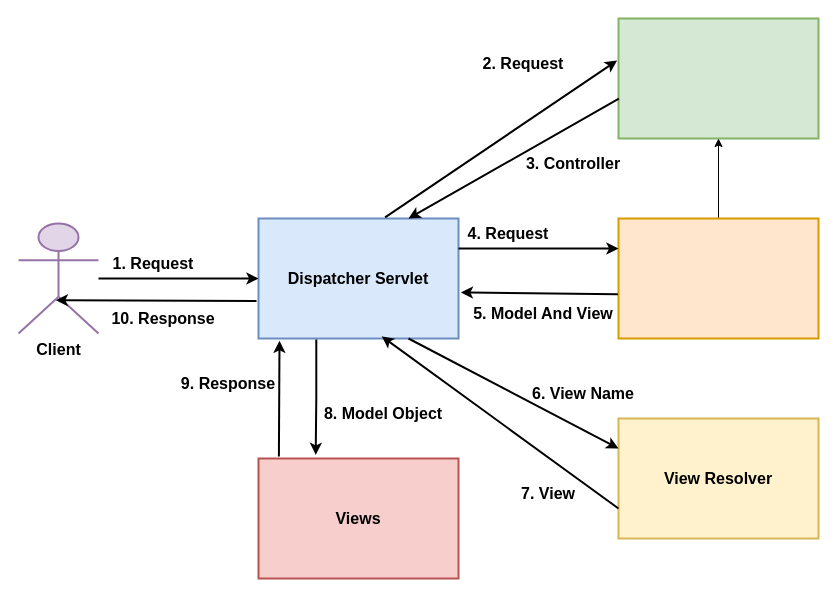
Some shapes in this 836 by 596 pixel diagram are drawn without their labels. Here are the shapes that lost their labels. From the top down, the box of each, then its label:
(617, 17, 819, 139): URL Handler Mapping
(617, 217, 819, 339): Controller
